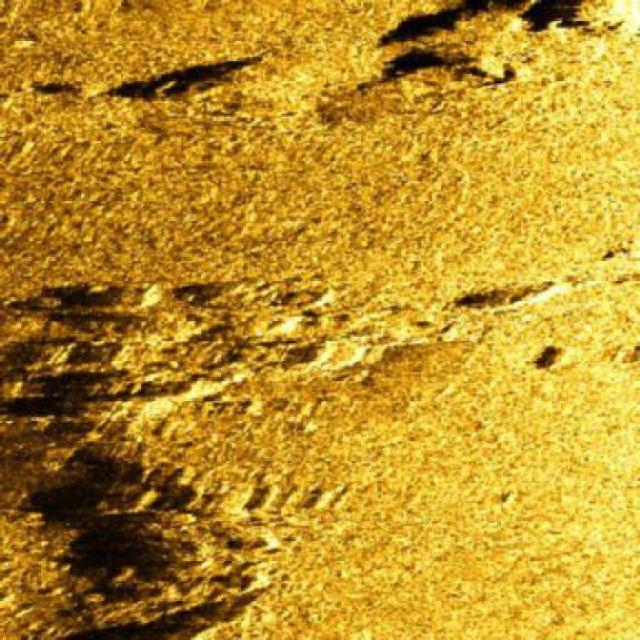bedrock group: (28, 275, 464, 639)
